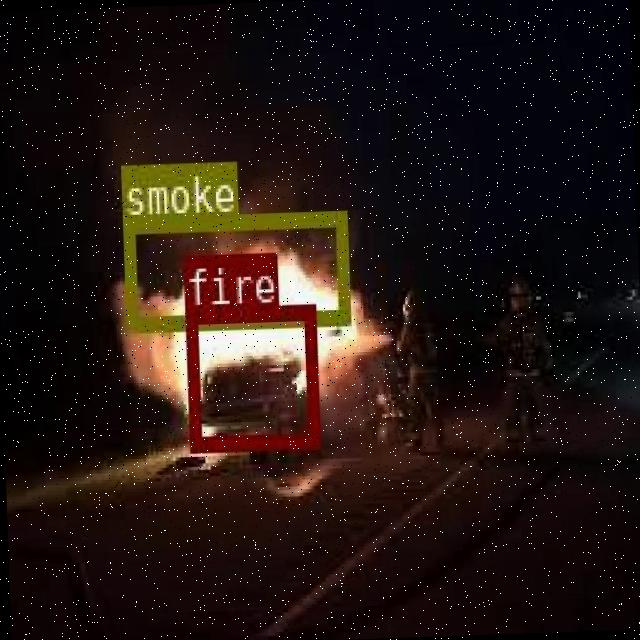fire: (184, 302, 316, 448)
smoke: (121, 208, 346, 328)
